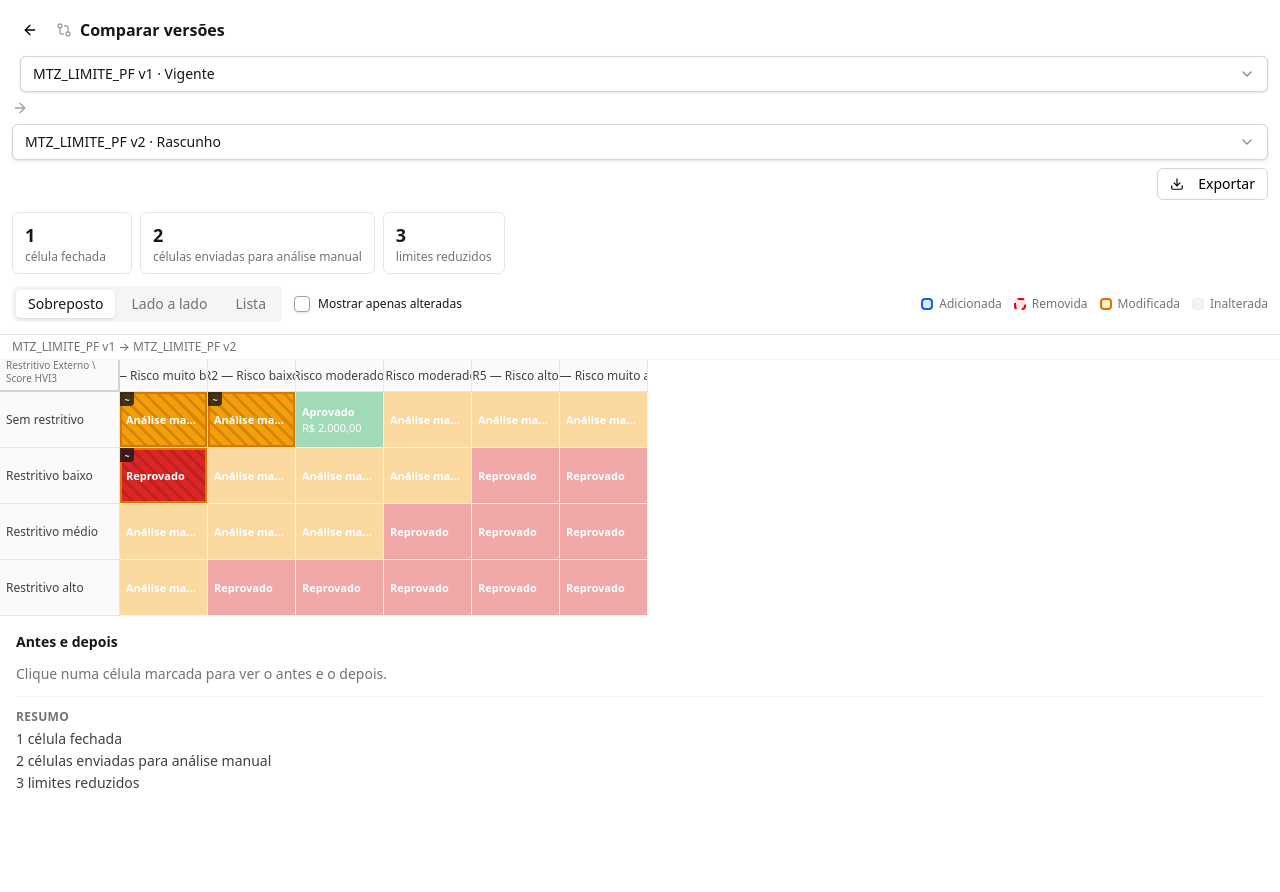
CompareScreen › clicar numa célula alterada mostra antes → depois no inspector
Click the cell "Reprovado ~" at (164, 476), box [120,448,208,504]
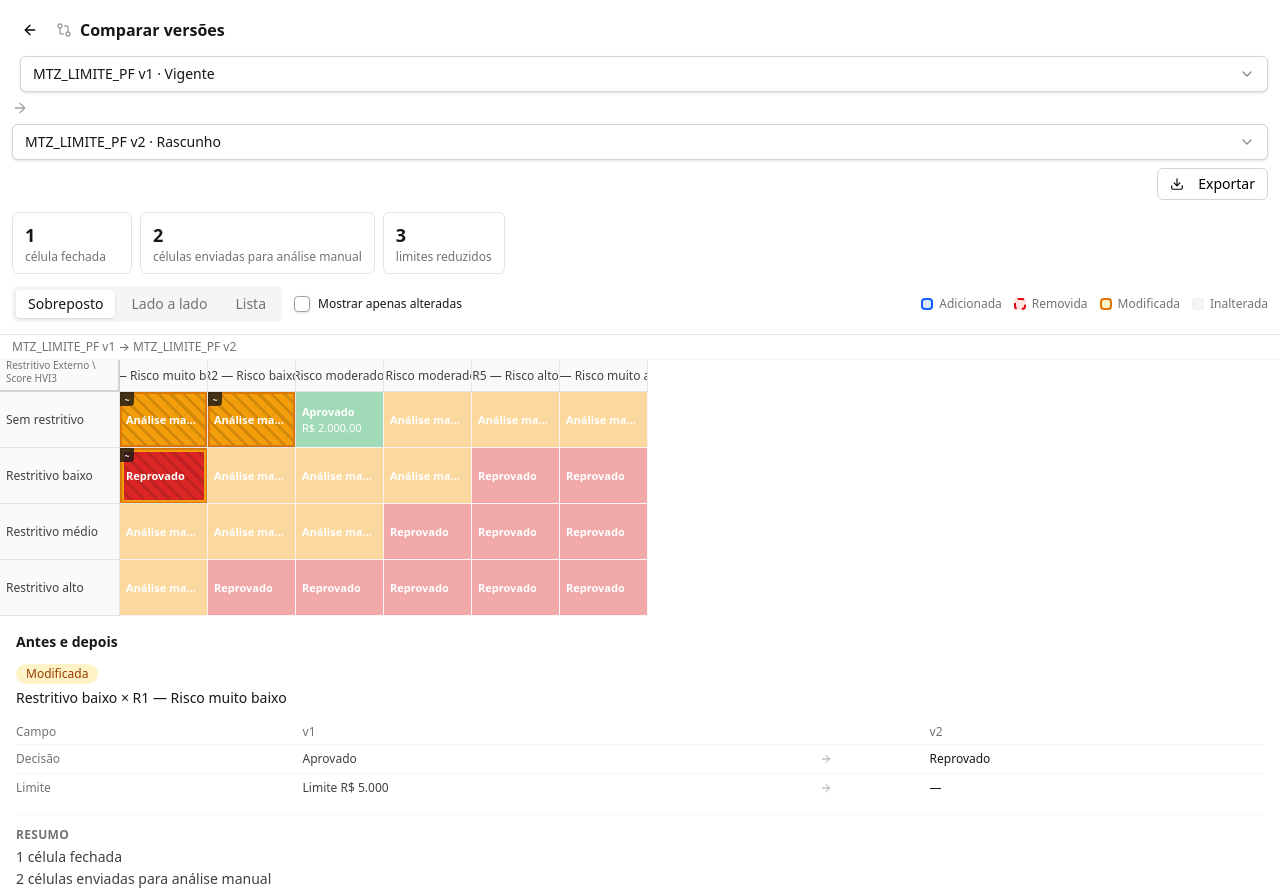
expect the text "Restritivo baixo × R1 — Risco muito baixo" is shown: met, box [16,688,287,707]
expect the text "Aprovado" is shown: met, box [303,744,820,774]
expect the text "Reprovado" in the row of "Decisão" is shown: met, box [930,750,990,767]
